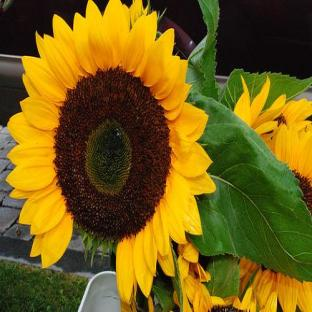sunflower: (6, 0, 217, 306)
